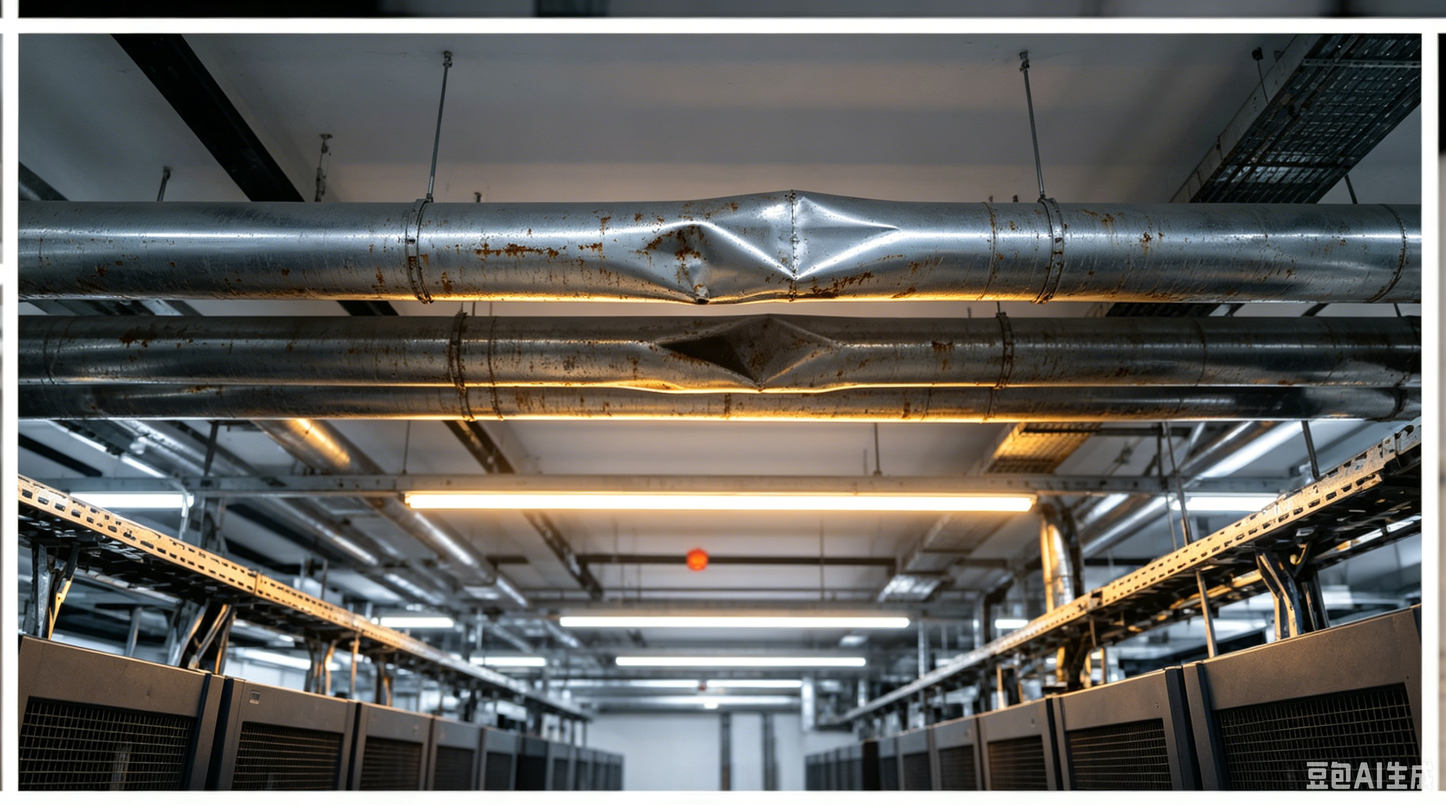Leakage: (655, 319, 875, 412), (721, 190, 924, 287), (621, 218, 762, 299)
